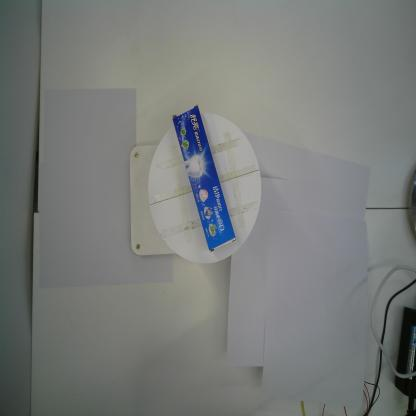Personal Hygiene: (172, 103, 237, 254)
